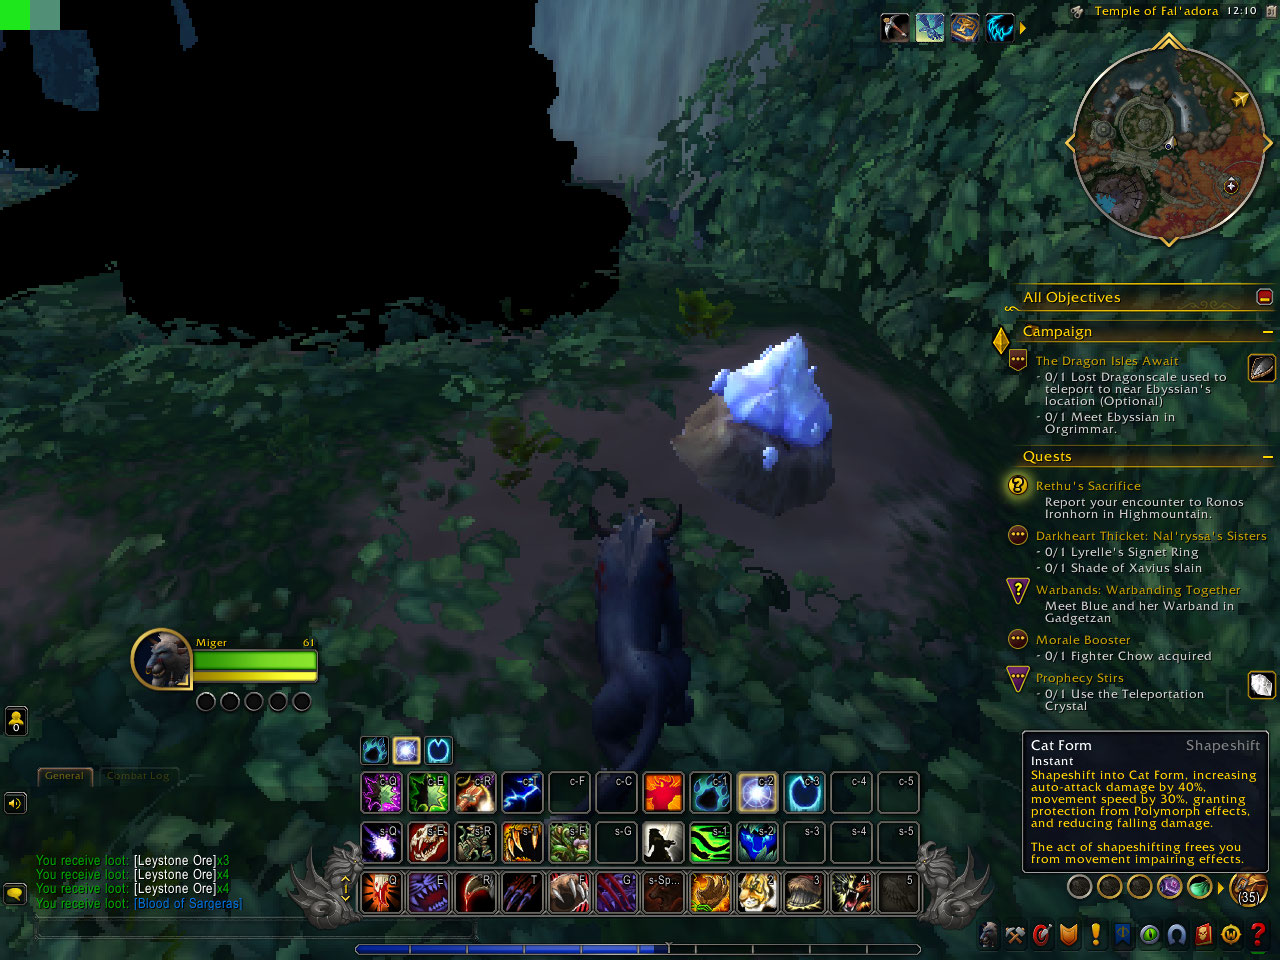ore: (668, 330, 838, 520)
